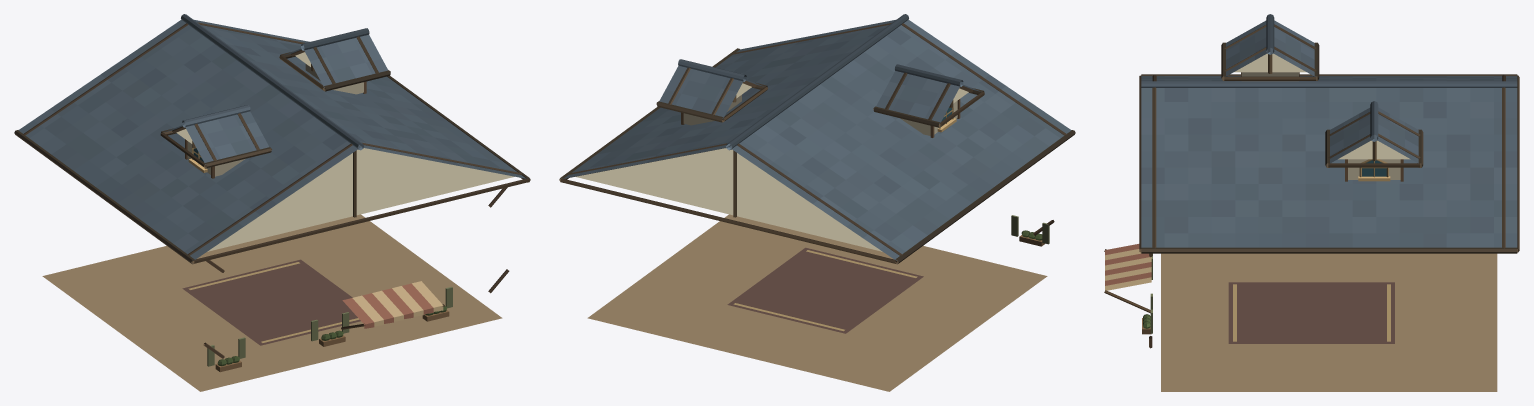
The picture shows the model from 3 angles, left to right: view 1: azimuth 30°, elevation 25°; view 2: azimuth 150°, elevation 25°; view 3: azimuth 270°, elevation 25°; orthographic projection. The views are drawn at different scales.
Parts seen in each view (by area): view 1: 485cdca2bd08ef134cdb3cdd810d749369ac295b12cc33da6538271d8bf8; view 2: 485cdca2bd08ef134cdb3cdd810d749369ac295b12cc33da6538271d8bf8; view 3: 485cdca2bd08ef134cdb3cdd810d749369ac295b12cc33da6538271d8bf8.
Boxes of the visible parts, x1,y1,x2,y2 form: 485cdca2bd08ef134cdb3cdd810d749369ac295b12cc33da6538271d8bf8: (14,14,530,391); 485cdca2bd08ef134cdb3cdd810d749369ac295b12cc33da6538271d8bf8: (559,14,1075,391); 485cdca2bd08ef134cdb3cdd810d749369ac295b12cc33da6538271d8bf8: (1104,14,1519,391).
Size of the model in its own units: 12.02 by 7.61 by 11.98.
6 materials, 1 textured.
